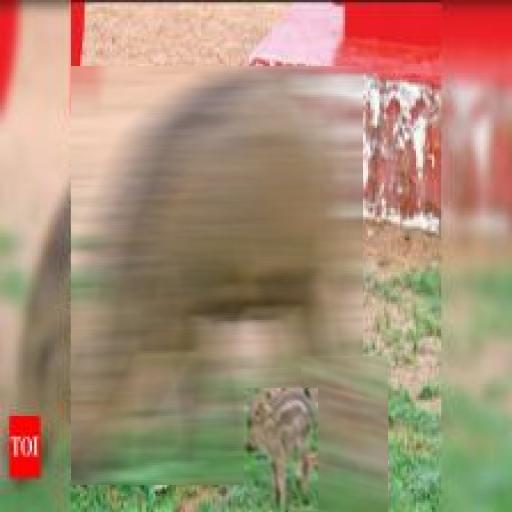Pig: (71, 66, 363, 485), (301, 356, 388, 512), (244, 388, 318, 511)
